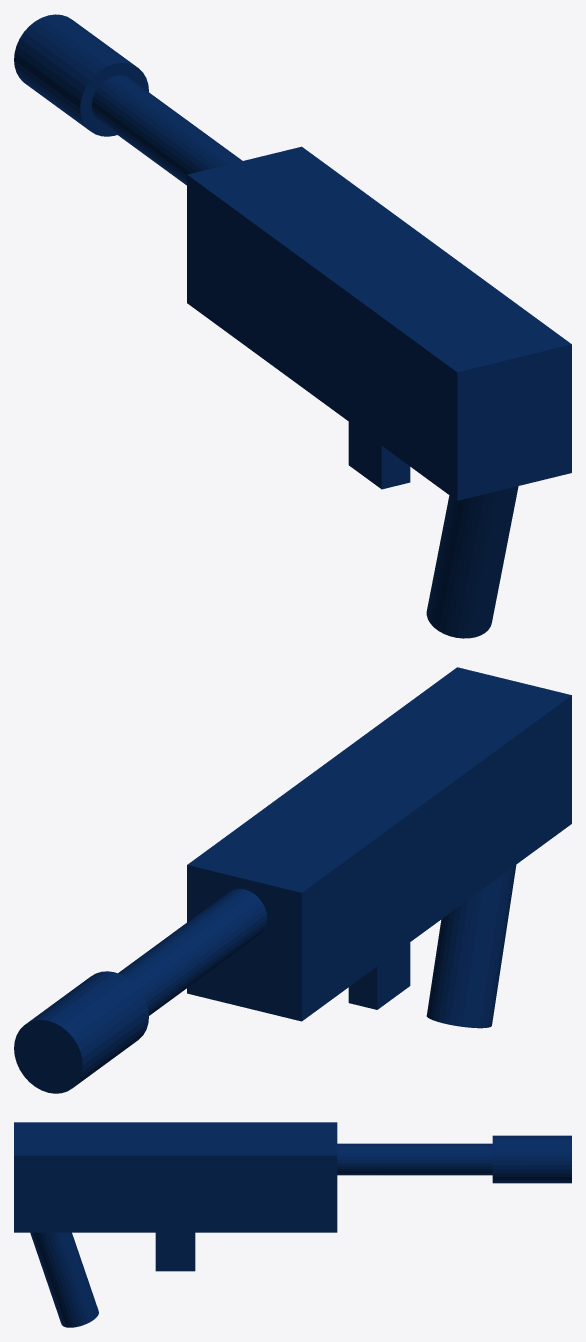
Rendered from wash_gun.glb.
The picture shows the model from 3 angles, top to bottom: view 1: azimuth 30°, elevation 25°; view 2: azimuth 150°, elevation 25°; view 3: azimuth 270°, elevation 25°; orthographic projection. The views are drawn at different scales.
Parts seen in each view (by area): view 1: Gun_Body; view 2: Gun_Body; view 3: Gun_Body.
Boxes of the visible parts, x1,y1,x2,y2 form: Gun_Body: [14, 14, 571, 638]; Gun_Body: [14, 667, 571, 1093]; Gun_Body: [14, 1122, 571, 1327].
Bounding box in the file's own units: 0.4 × 1.03 × 2.82.
